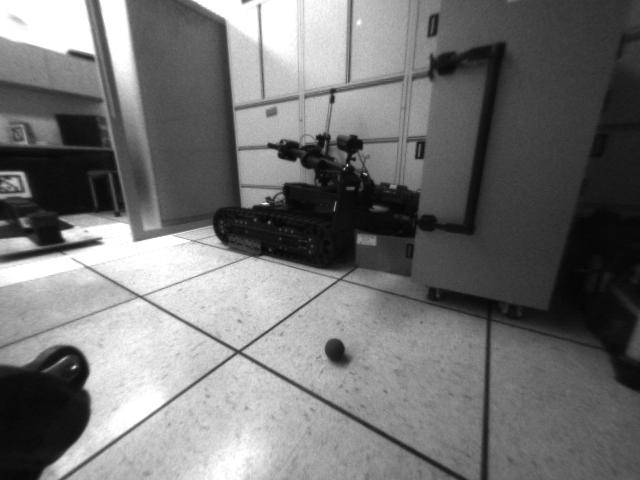dogtoy: (320, 335, 354, 364)
